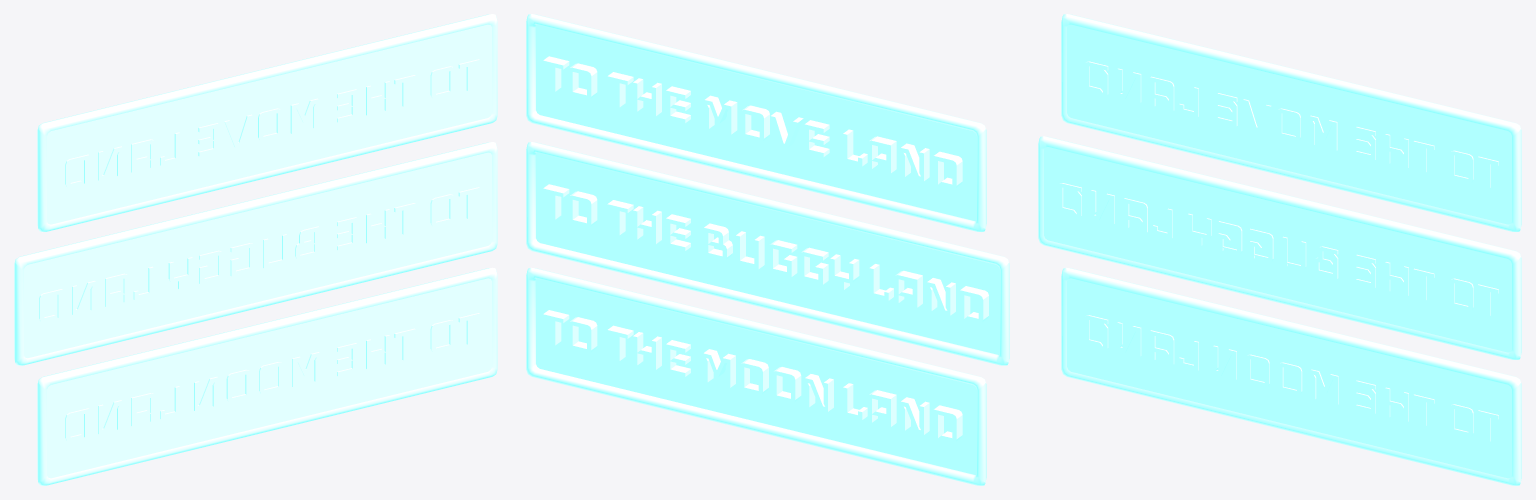
The model's file is To the (1).fbx.
3 views of the same model, side by side, from view 1: azimuth 30°, elevation 25°; view 2: azimuth 150°, elevation 25°; view 3: azimuth 330°, elevation 25° (orthographic).
Parts seen in each view (by area): view 1: Cube.002, Cube, Cube.001; view 2: Cube.002, Cube, Cube.001; view 3: Cube.002, Cube.001, Cube.
Boxes of the visible parts, bbox=[...] form: Cube.002: bbox=[14, 142, 497, 365]; Cube: bbox=[37, 267, 497, 485]; Cube.001: bbox=[37, 14, 497, 232]; Cube.002: bbox=[526, 142, 1009, 365]; Cube: bbox=[526, 267, 986, 485]; Cube.001: bbox=[526, 14, 986, 232]; Cube.002: bbox=[1038, 136, 1521, 359]; Cube.001: bbox=[1061, 14, 1521, 232]; Cube: bbox=[1061, 267, 1521, 485].
Bounding box in the file's own units: 9.03 × 6.49 × 0.2182.
